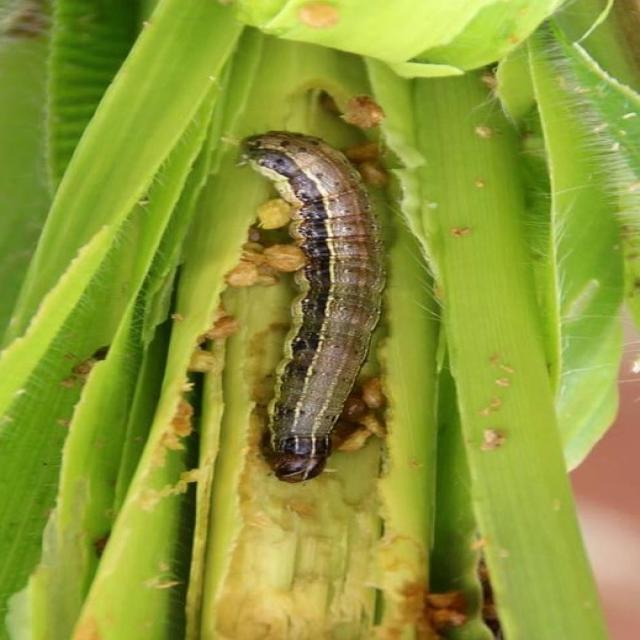army worm: (240, 123, 386, 495)
